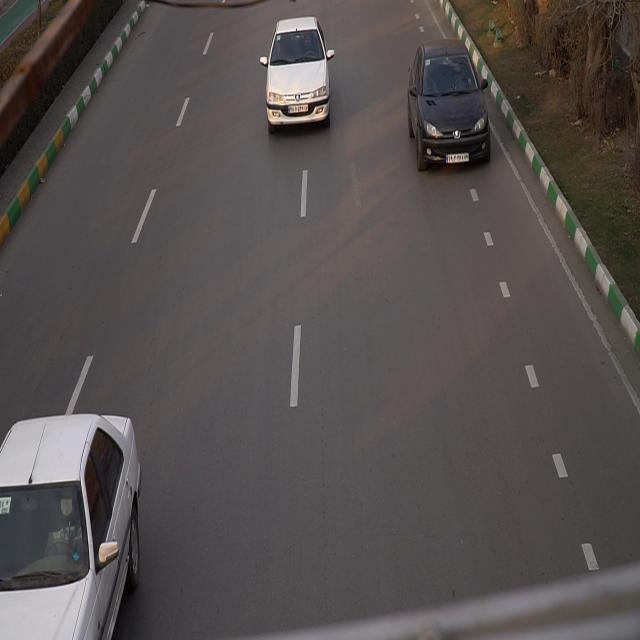car: (0, 412, 141, 640), (408, 41, 490, 176), (261, 14, 333, 138)
